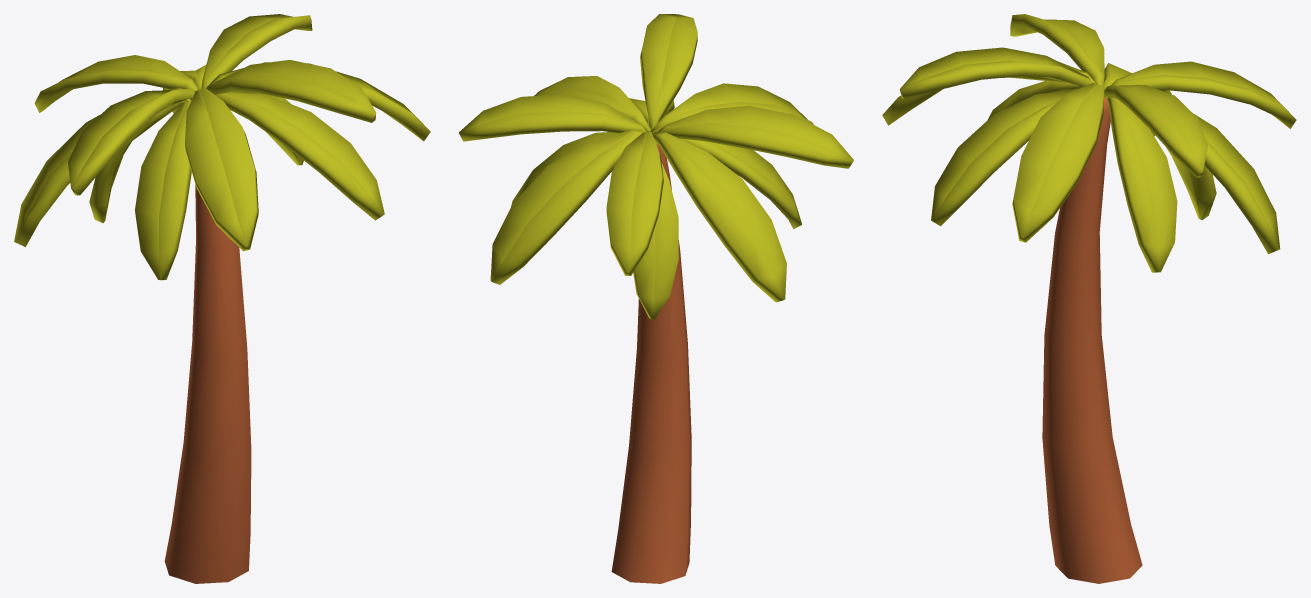
Rendered from palm_l.glb.
3 renders of one model, left to right at view 1: azimuth 30°, elevation 25°; view 2: azimuth 150°, elevation 25°; view 3: azimuth 270°, elevation 25°, orthographic. The views are drawn at different scales.
Parts seen in each view (by area): view 1: palm_l; view 2: palm_l; view 3: palm_l.
Part boxes in pixels (x1,y1,x2,y2): palm_l: (14,14,430,583); palm_l: (459,14,853,583); palm_l: (882,14,1296,583).
Bounding box in the file's own units: 3.42 × 4.74 × 3.37.
1 material, 1 textured.
